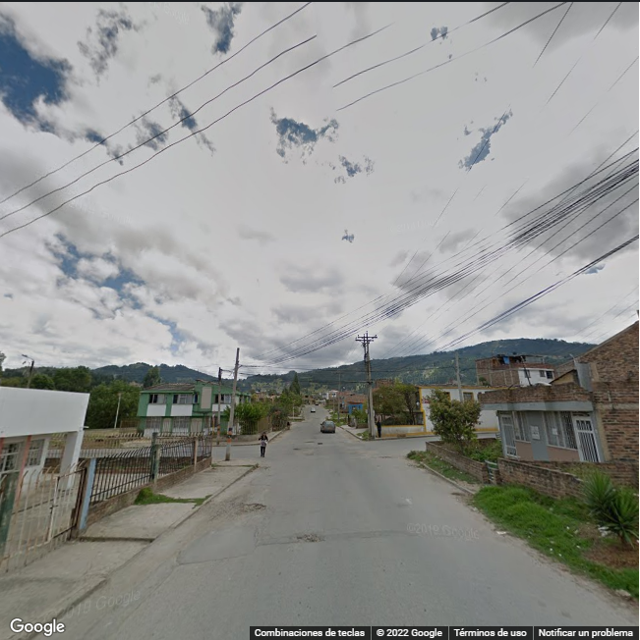D00: (105, 559, 180, 635)
D10: (178, 553, 247, 567)
D40: (293, 528, 321, 545)
